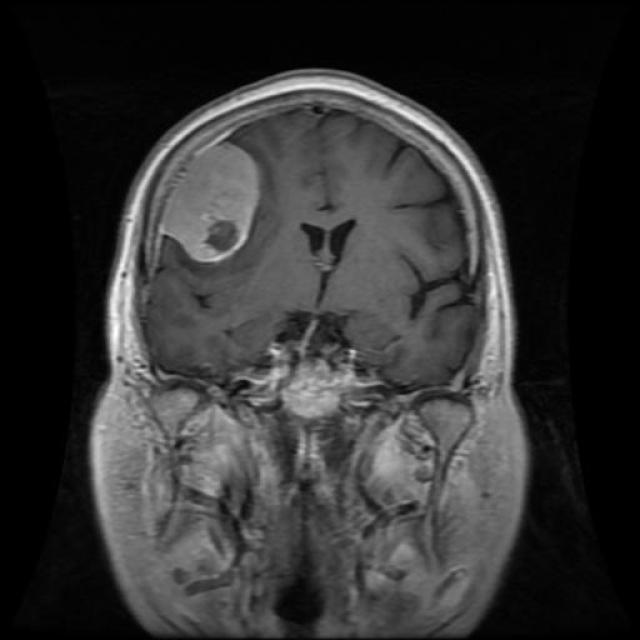Meningioma: (163, 136, 260, 262)
